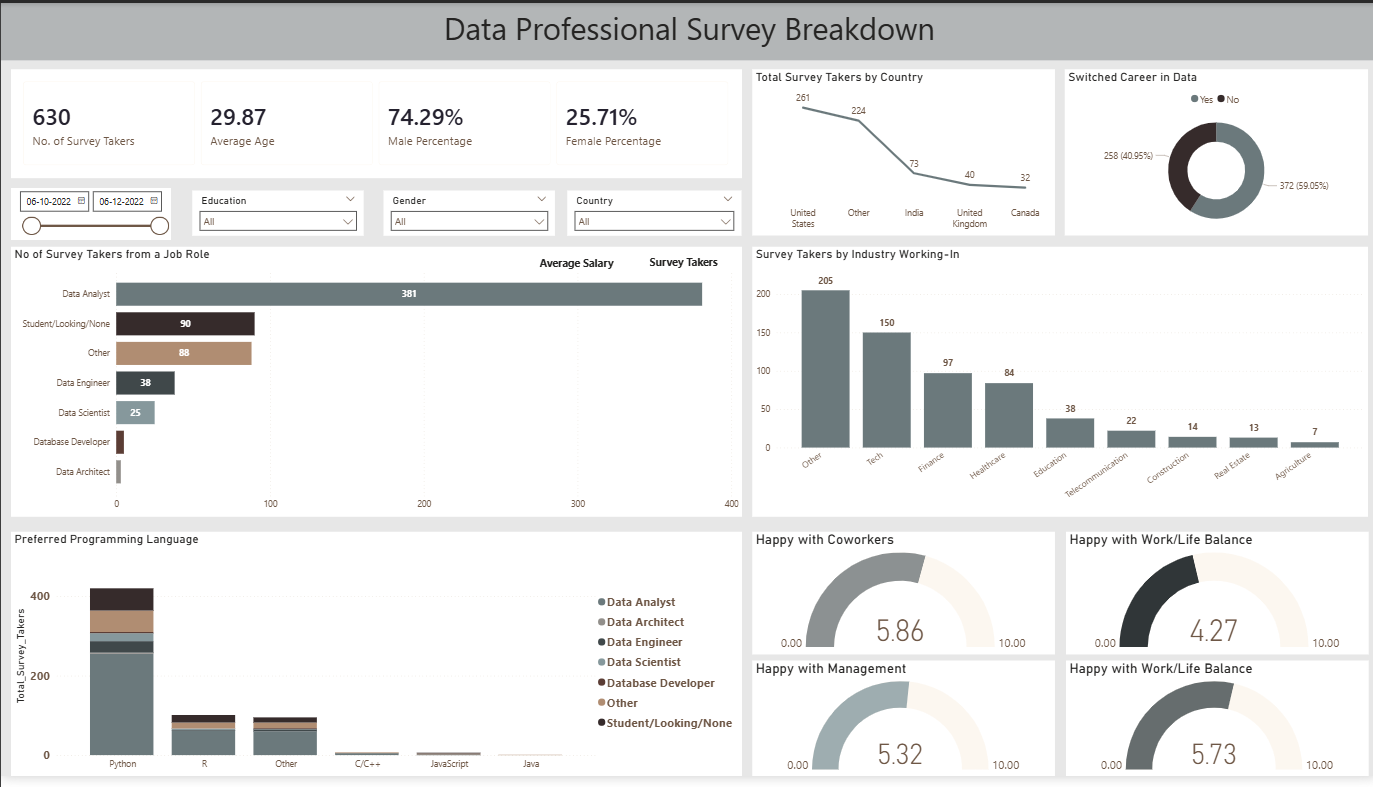

The dashboard page shown, as its layout file describes it:
{"tool":"powerbi","page":{"name":"Dashboard","canvas":[1920,1080],"ordinal":0},"visuals":[{"type":"cardVisual","fields":{"Data":["Measure (2).Total_Survey_Takers","Measure (2).Average Age","Measure (2).%Male_survey_takers","Measure (2).%Female_survey_taker"]},"box":[14,92.4,1020.4,151.7],"z":0},{"type":"textbox","box":[0,0,1920.4,80.2],"z":2000},{"type":"columnChart","title":"Preferred Programming Language","fields":{"Category":["Data Professional Survey.Q5 - Favorite Programming Language.1"],"Series":["Data Professional Survey.Current Job Role"],"Y":["Measure (2).Total_Survey_Takers"]},"box":[14,737.8,1020.4,341.9],"z":3000},{"type":"barChart","title":"No of Survey Takers from a Job Role","fields":{"Category":["Data Professional Survey.Current Job Role"],"Series":["Data Professional Survey.Current Job Role"],"Y":["Measure (2).Total_Survey_Takers"]},"box":[14,340.1,1020.4,376.7],"z":4000},{"type":"slicer","fields":{"Values":["Data Professional Survey.Country"]},"box":[790.7,261.2,243.2,63],"z":6000},{"type":"gauge","title":"Happy with Work/Life Balance","fields":{"Y":["Avg(Data Professional Survey.Work/Life Balance Rating)"],"MinValue":["Min(Data Professional Survey.Work/Life Balance Rating)1"],"MaxValue":["Max(Data Professional Survey.Work/Life Balance Rating)2"]},"box":[1486.1,917.4,422.1,162.2],"z":7000},{"type":"gauge","title":"Happy with Work/Life Balance","fields":{"Y":["Avg(Data Professional Survey.Salary Rating)"],"MinValue":["Min(Data Professional Survey.Salary Rating)"],"MaxValue":["Max(Data Professional Survey.Salary Rating)"]},"box":[1486.1,737.8,422.1,170.9],"z":8000},{"type":"gauge","title":"Happy with Coworkers","fields":{"Y":["Avg(Data Professional Survey.Coworkers Rating)"],"MinValue":["Min(Data Professional Survey.Coworkers Rating)"],"MaxValue":["Max(Data Professional Survey.Coworkers Rating)"]},"box":[1048.3,737.8,422.1,170.9],"z":9000},{"type":"gauge","title":"Happy with Management","fields":{"Y":["Avg(Data Professional Survey.Management Rating)"],"MinValue":["Min(Data Professional Survey.Management Rating)"],"MaxValue":["Max(Data Professional Survey.Management Rating)"]},"box":[1048.3,917.4,422.1,162.2],"z":10000},{"type":"slicer","fields":{"Values":["Data Professional Survey.Gender"]},"box":[533.1,261.2,239.5,63],"z":11000},{"type":"columnChart","fields":{"Category":["Data Professional Survey.Q4 - What Industry do you work in?.1"],"Y":["Measure (2).Total_Survey_Takers"]},"box":[1048.3,340.4,859.1,376.4],"z":12000},{"type":"donutChart","title":"Switched Career in Data","fields":{"Y":["Measure (2).Total_Survey_Takers"],"Category":["Data Professional Survey.Q2 - Did you switch careers into Data?"]},"box":[1484.1,91.9,423.3,232.3],"z":13000},{"type":"lineChart","fields":{"Category":["Data Professional Survey.Country"],"Y":["Measure (2).Total_Survey_Takers"]},"box":[1048.3,92.4,422.1,232],"z":14000},{"type":"textbox","box":[900,350,120.3,22.7],"z":15000},{"type":"textbox","box":[746.5,352,120.3,22.7],"z":16000},{"type":"actionButton","title":"Avg_Sal","box":[732.6,343.6,150,40.1],"z":17000},{"type":"actionButton","title":"Svy_Tak","box":[891.3,343.6,129.1,40.1],"z":17500},{"type":"slicer","fields":{"Values":["Data Professional Survey.Date Taken (America/New_York)"]},"box":[14.4,257.6,223.3,72],"z":17501},{"type":"slicer","fields":{"Values":["Data Professional Survey.Education"]},"box":[266.6,261.2,239.5,63],"z":17502}]}

Visuals, with their boxes in screenshot pixels (x1, y1, x2, y2), scaled from the page's 1920x1080 canvas onto the 1373x787 screenshot:
cardVisual - Measure (2).Total_Survey_Takers x Measure (2).Average Age: x1=10, y1=67, x2=740, y2=178
textbox: x1=0, y1=0, x2=1372, y2=58
"Preferred Programming Language" columnChart: x1=10, y1=538, x2=740, y2=786
"No of Survey Takers from a Job Role" barChart: x1=10, y1=248, x2=740, y2=522
slicer - Data Professional Survey.Country: x1=565, y1=190, x2=739, y2=236
"Happy with Work/Life Balance" gauge: x1=1063, y1=669, x2=1365, y2=786
"Happy with Work/Life Balance" gauge: x1=1063, y1=538, x2=1365, y2=662
"Happy with Coworkers" gauge: x1=750, y1=538, x2=1051, y2=662
"Happy with Management" gauge: x1=750, y1=669, x2=1051, y2=786
slicer - Data Professional Survey.Gender: x1=381, y1=190, x2=552, y2=236
columnChart - Data Professional Survey.Q4 - What Industry do you work in?.1 x Measure (2).Total_Survey_Takers: x1=750, y1=248, x2=1364, y2=522
"Switched Career in Data" donutChart: x1=1061, y1=67, x2=1364, y2=236
lineChart - Data Professional Survey.Country x Measure (2).Total_Survey_Takers: x1=750, y1=67, x2=1051, y2=236
textbox: x1=644, y1=255, x2=730, y2=272
textbox: x1=534, y1=257, x2=620, y2=273
"Avg_Sal" actionButton: x1=524, y1=250, x2=631, y2=280
"Svy_Tak" actionButton: x1=637, y1=250, x2=730, y2=280
slicer - Data Professional Survey.Date Taken (America/New_York): x1=10, y1=188, x2=170, y2=240
slicer - Data Professional Survey.Education: x1=191, y1=190, x2=362, y2=236
